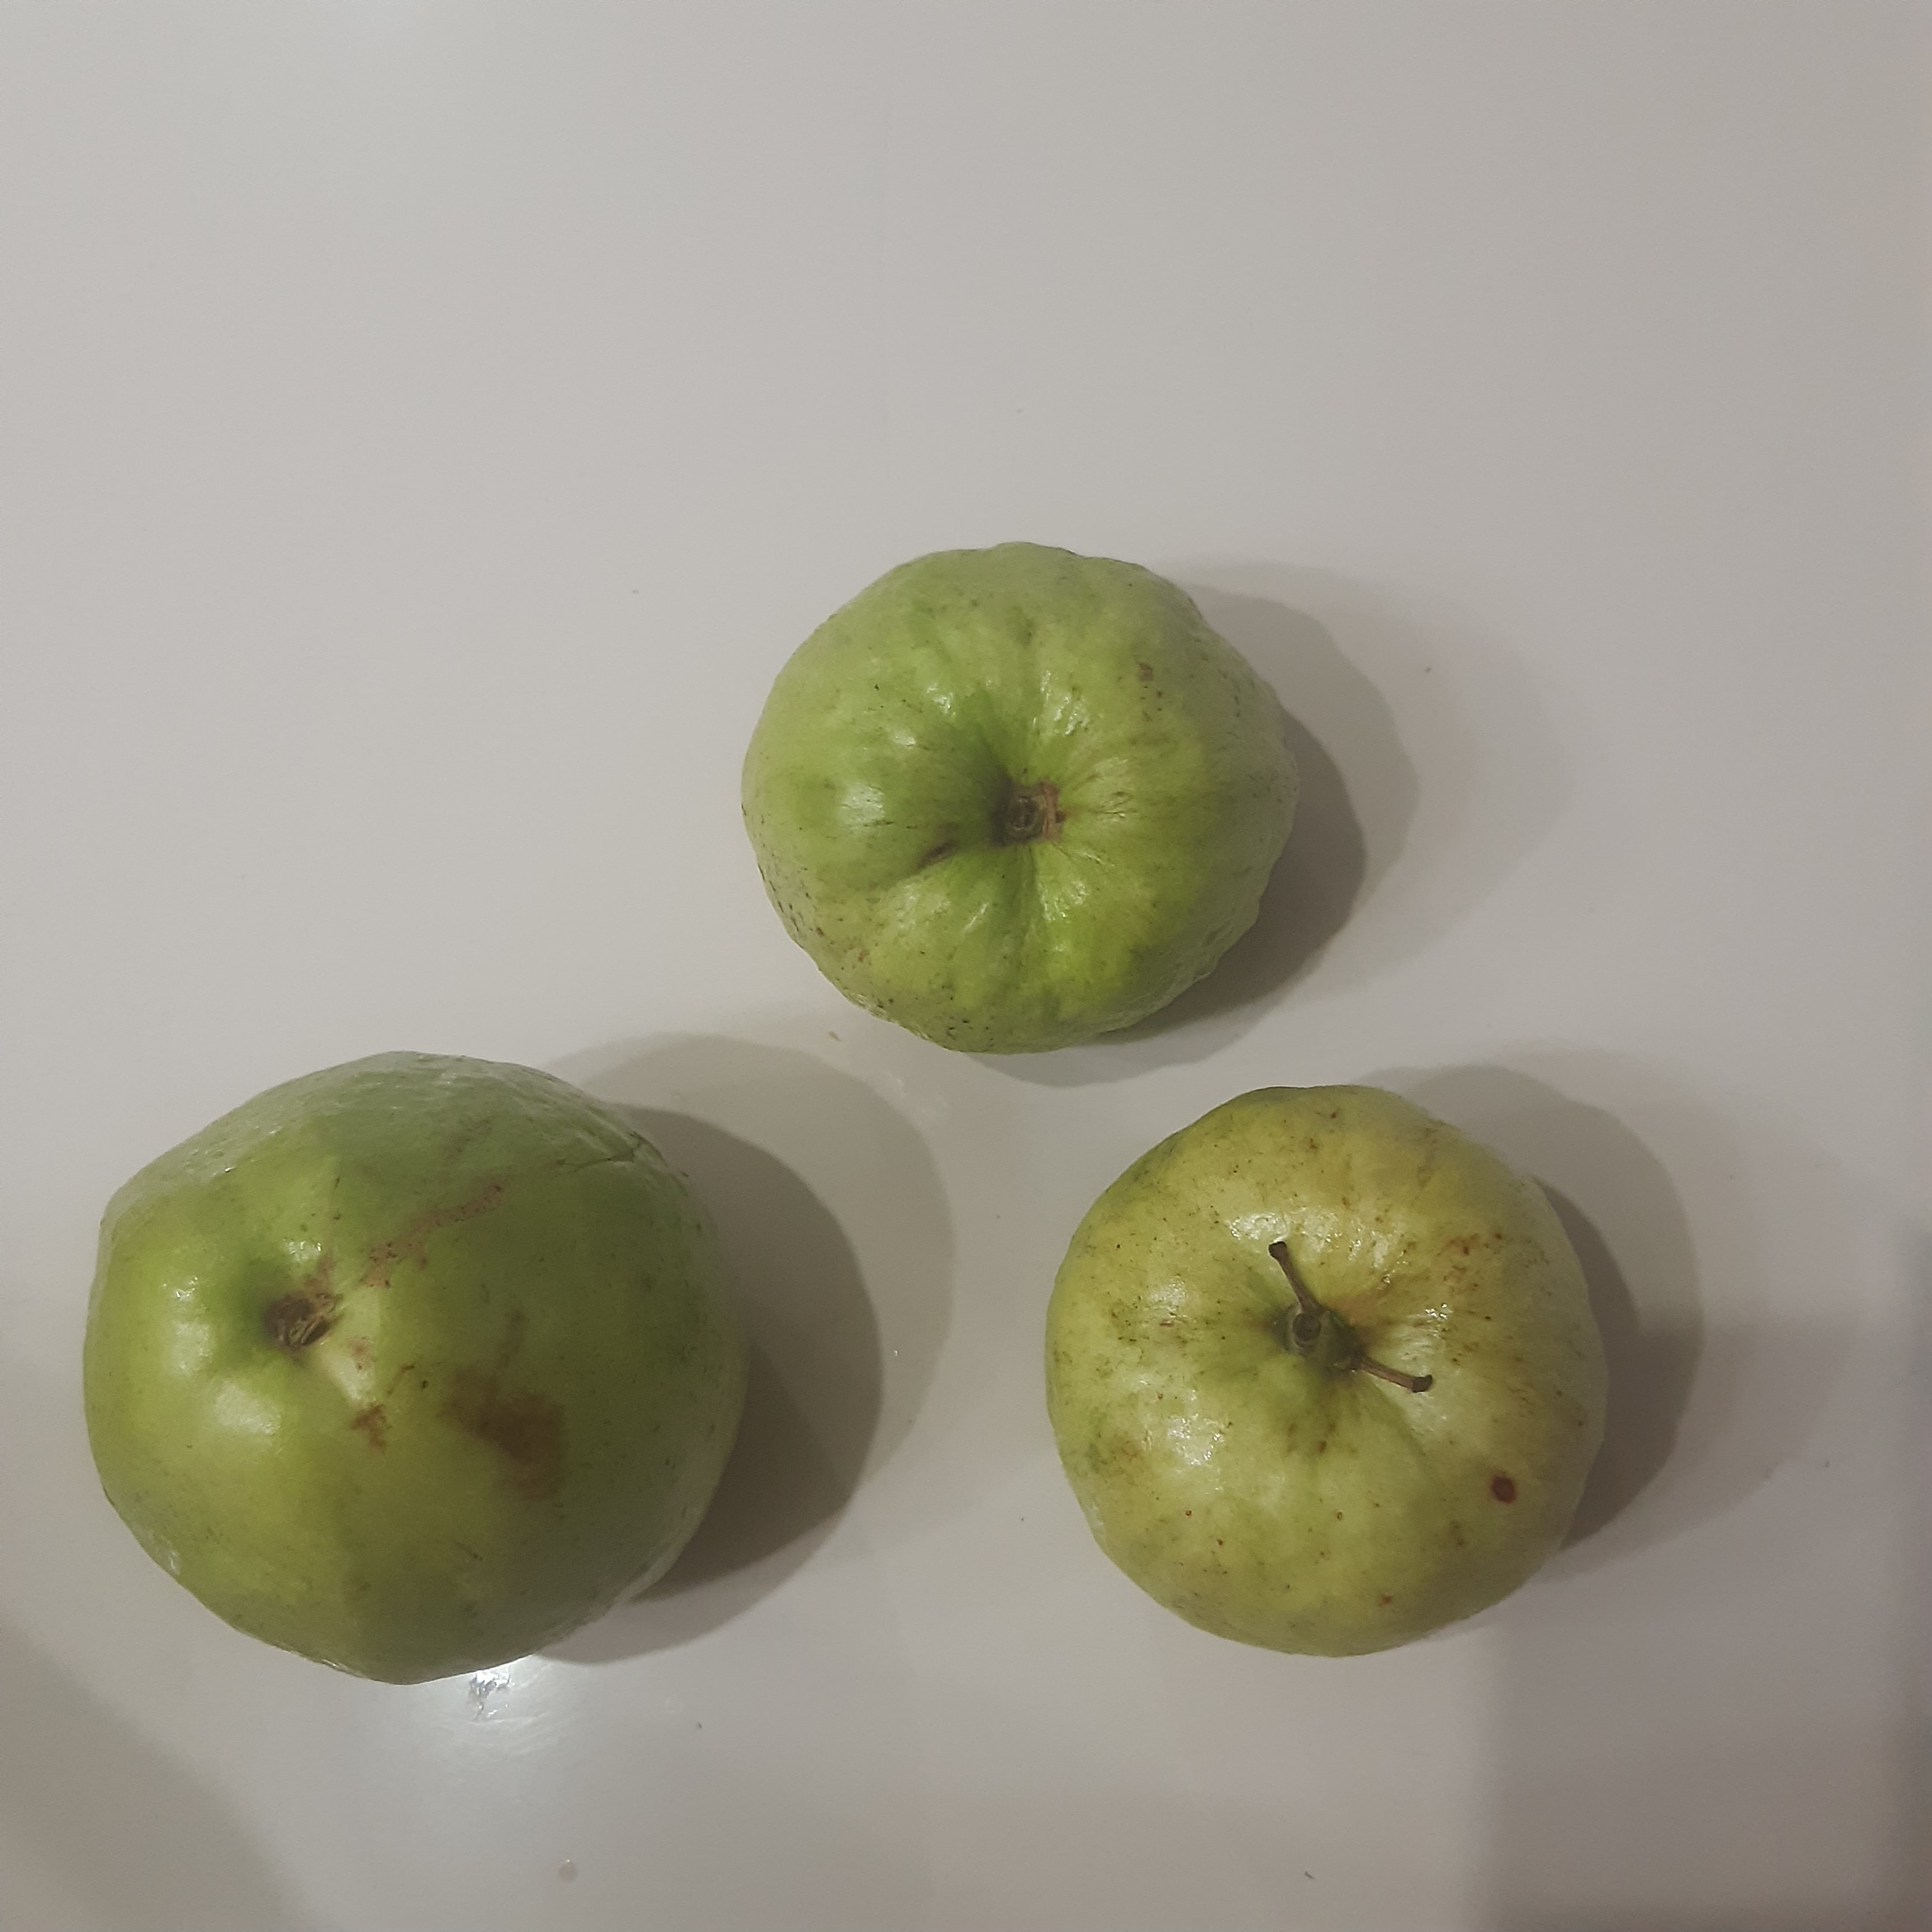Oi: (77, 1051, 746, 1684), (1040, 1075, 1614, 1665), (732, 536, 1299, 1051)
